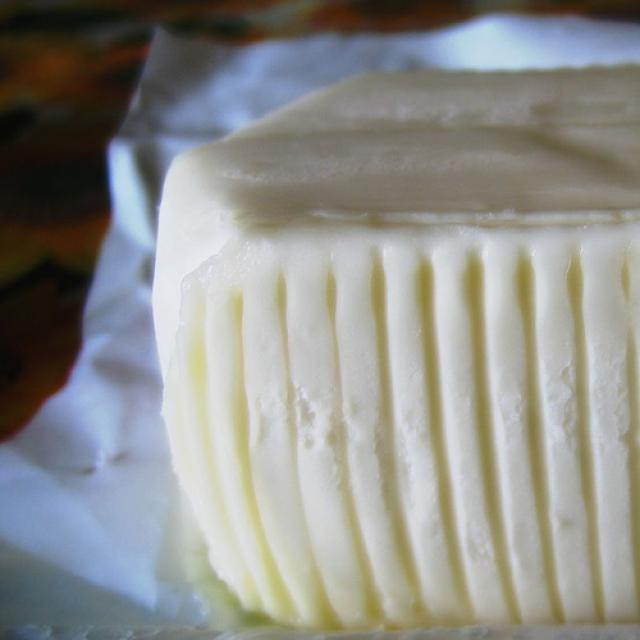Butter: (138, 62, 640, 640)
